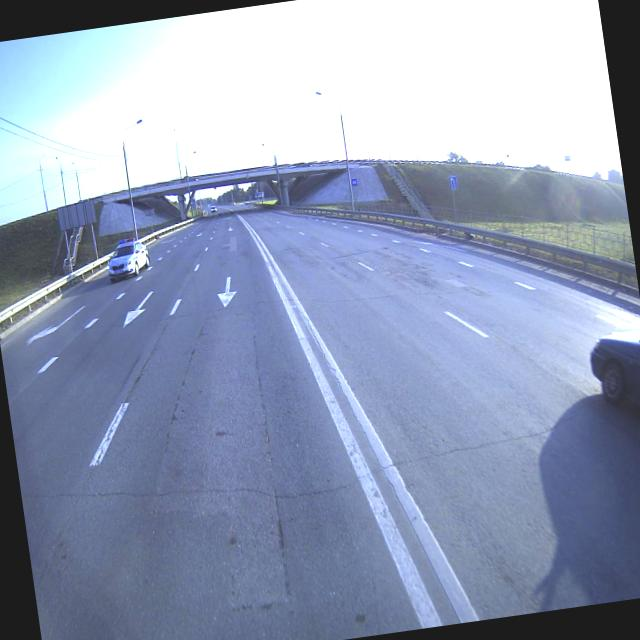road: (1, 205, 640, 640)
